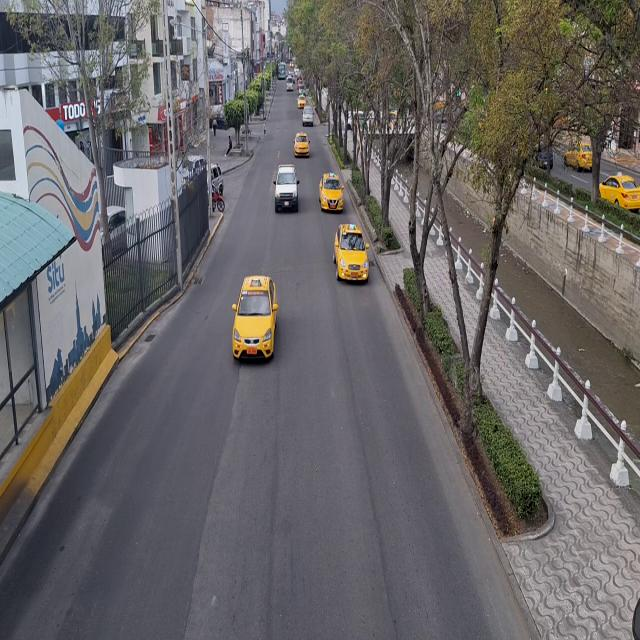CMT: (275, 169, 298, 213)
MOTORCYCLE: (212, 194, 225, 212)
SED: (230, 280, 274, 360), (336, 224, 368, 278), (322, 176, 344, 210)
